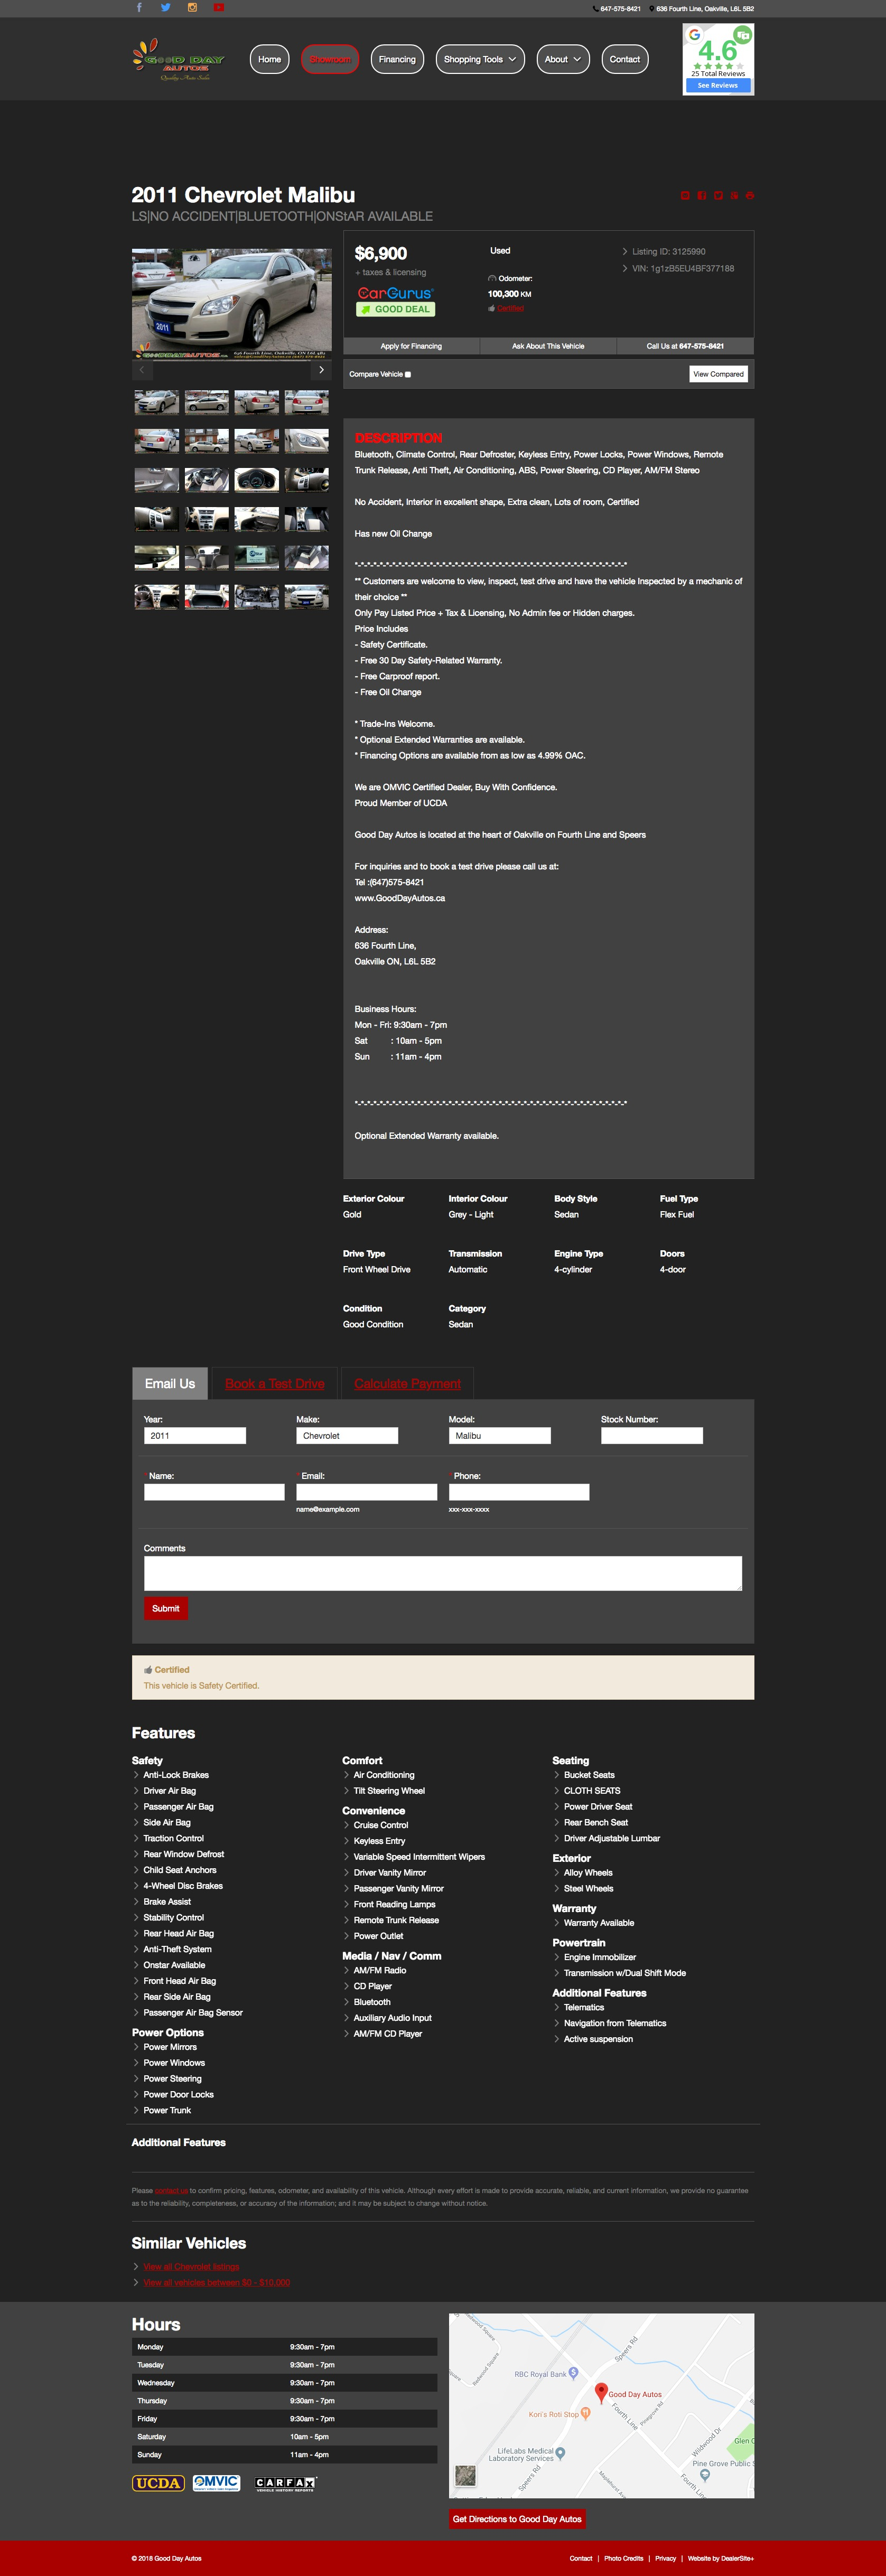car: (312, 360, 332, 381)
